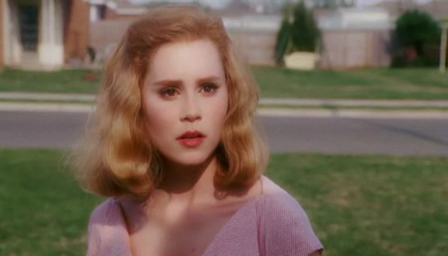cu: (1, 1, 448, 256)
face: (147, 52, 229, 167)
person: (57, 2, 327, 256)
